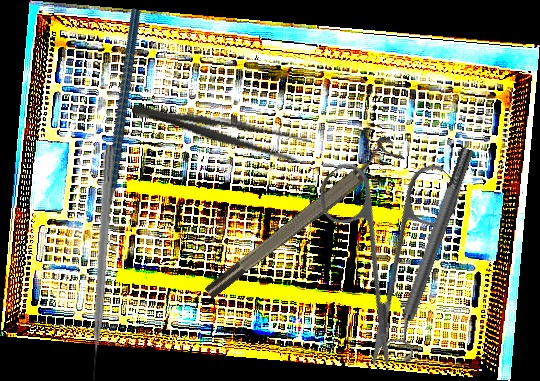Chopper: (29, 7, 221, 256)
Dressing Forceps: (128, 94, 314, 167)
Fixation Ring: (195, 133, 406, 303), (377, 143, 486, 364)
Iris Scissors: (258, 115, 516, 372)
Pusher: (85, 144, 116, 381)
